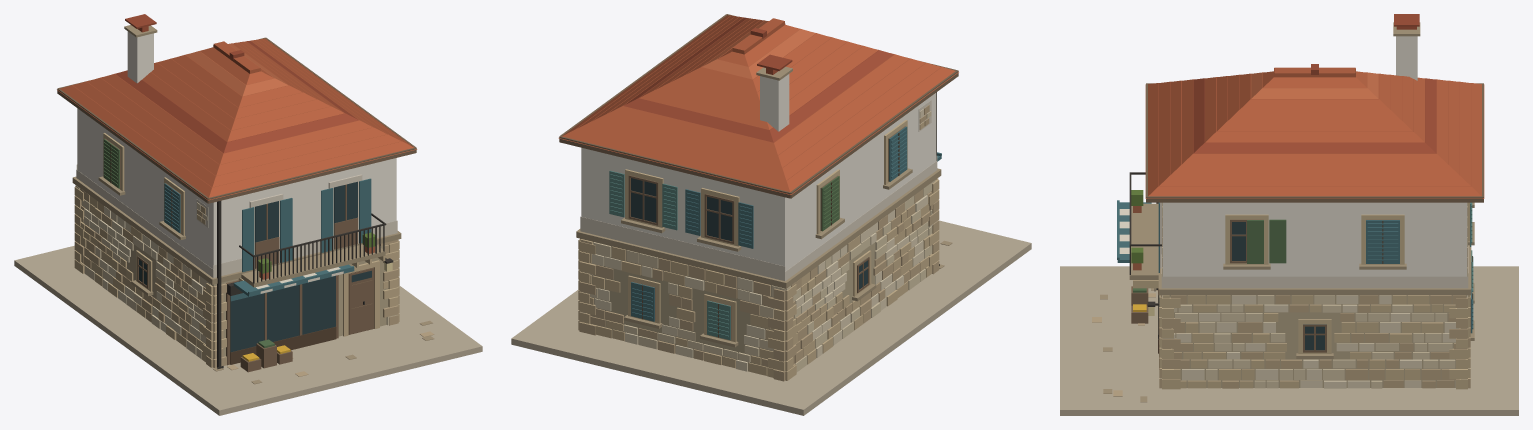
File: dukkanli-ev.glb
The picture shows the model from 3 angles, left to right: view 1: azimuth 30°, elevation 25°; view 2: azimuth 150°, elevation 25°; view 3: azimuth 270°, elevation 25°; orthographic projection. The views are drawn at different scales.
Parts seen in each view (by area): view 1: kiremit1, zemin, badana, ahsap, cam, tas2, kepenk, tas3, tas_koyu, kiremit4, demir, badana_kir (+6 smaller); view 2: kiremit1, zemin, badana, tas2, tas3, tas4, tas1, ahsap, tas_koyu, badana_kir, harc, kiremit4 (+5 smaller); view 3: kiremit1, zemin, badana, tas2, tas3, tas1, tas_koyu, harc, kiremit4, tas4, badana_kir, ahsap (+6 smaller).
Part boxes in pixels (bbox=[...]): kiremit1: bbox=[57, 38, 417, 200]; zemin: bbox=[14, 245, 482, 415]; badana: bbox=[77, 31, 396, 268]; ahsap: bbox=[57, 37, 416, 372]; cam: bbox=[138, 181, 371, 352]; tas2: bbox=[74, 133, 399, 362]; kepenk: bbox=[164, 178, 371, 301]; tas3: bbox=[74, 186, 434, 376]; tas_koyu: bbox=[72, 25, 434, 384]; kiremit4: bbox=[115, 14, 358, 153]; demir: bbox=[217, 201, 393, 369]; badana_kir: bbox=[76, 164, 397, 277]; kiremit1: bbox=[558, 15, 958, 194]; zemin: bbox=[511, 220, 1031, 415]; badana: bbox=[581, 74, 936, 271]; tas2: bbox=[578, 120, 939, 380]; tas3: bbox=[578, 104, 939, 381]; tas4: bbox=[580, 109, 937, 371]; tas1: bbox=[580, 111, 935, 372]; ahsap: bbox=[559, 14, 958, 339]; tas_koyu: bbox=[576, 66, 952, 347]; badana_kir: bbox=[580, 100, 937, 281]; harc: bbox=[590, 179, 936, 371]; kiremit4: bbox=[623, 17, 893, 142]; kiremit1: bbox=[1145, 67, 1484, 198]; zemin: bbox=[1060, 266, 1518, 415]; badana: bbox=[1162, 36, 1467, 276]; tas2: bbox=[1133, 202, 1470, 389]; tas3: bbox=[1092, 206, 1470, 396]; tas1: bbox=[1160, 295, 1469, 388]; tas_koyu: bbox=[1100, 22, 1474, 402]; harc: bbox=[1169, 295, 1467, 387]; kiremit4: bbox=[1193, 14, 1436, 153]; tas4: bbox=[1163, 295, 1469, 388]; badana_kir: bbox=[1160, 202, 1468, 288]; ahsap: bbox=[1131, 83, 1483, 368].
Bounding box in the file's own units: 10 × 9.56 × 13.5.
